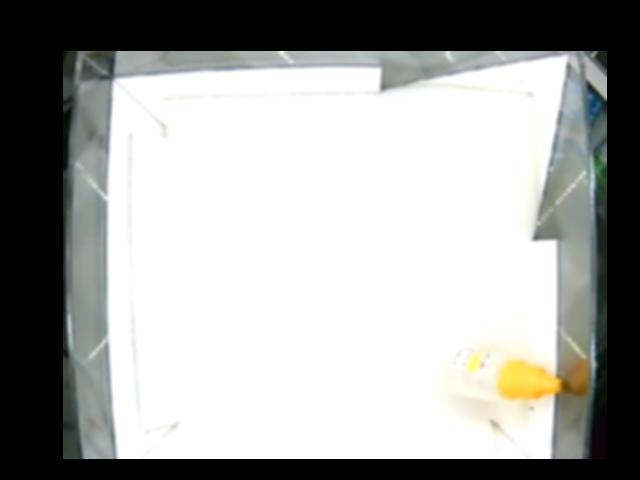Bottle: (450, 346, 561, 404)
